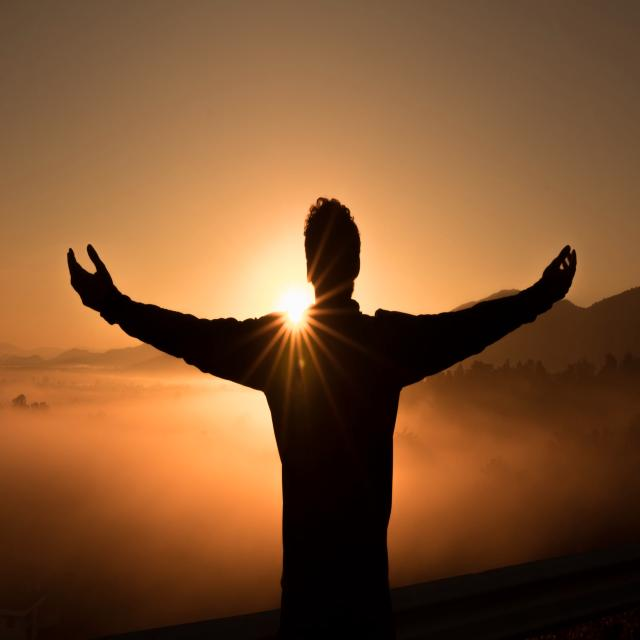adult: (67, 193, 576, 640)
